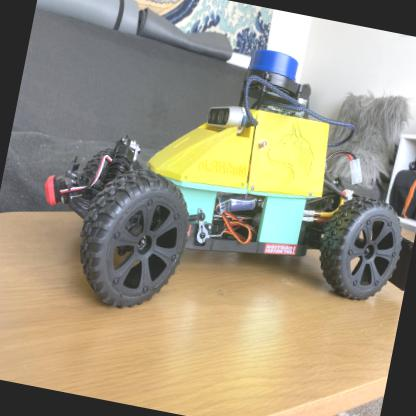mushr_car: (22, 11, 415, 365)
